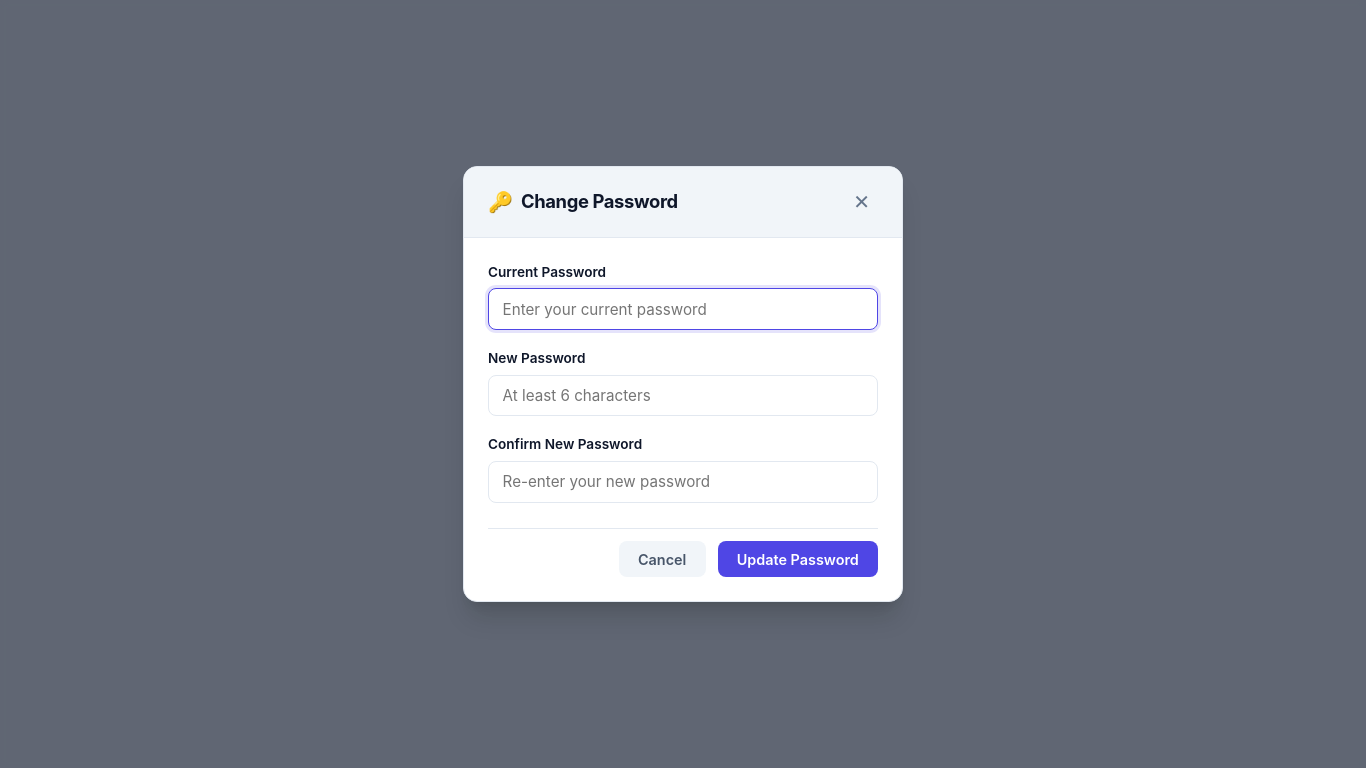
ChangePasswordModal Component › shows validation error when new password is too short
Type "oldpass123" into the password field labelled "Current Password".
click(683, 309); type("oldpass123")  # box [488,288,878,330]
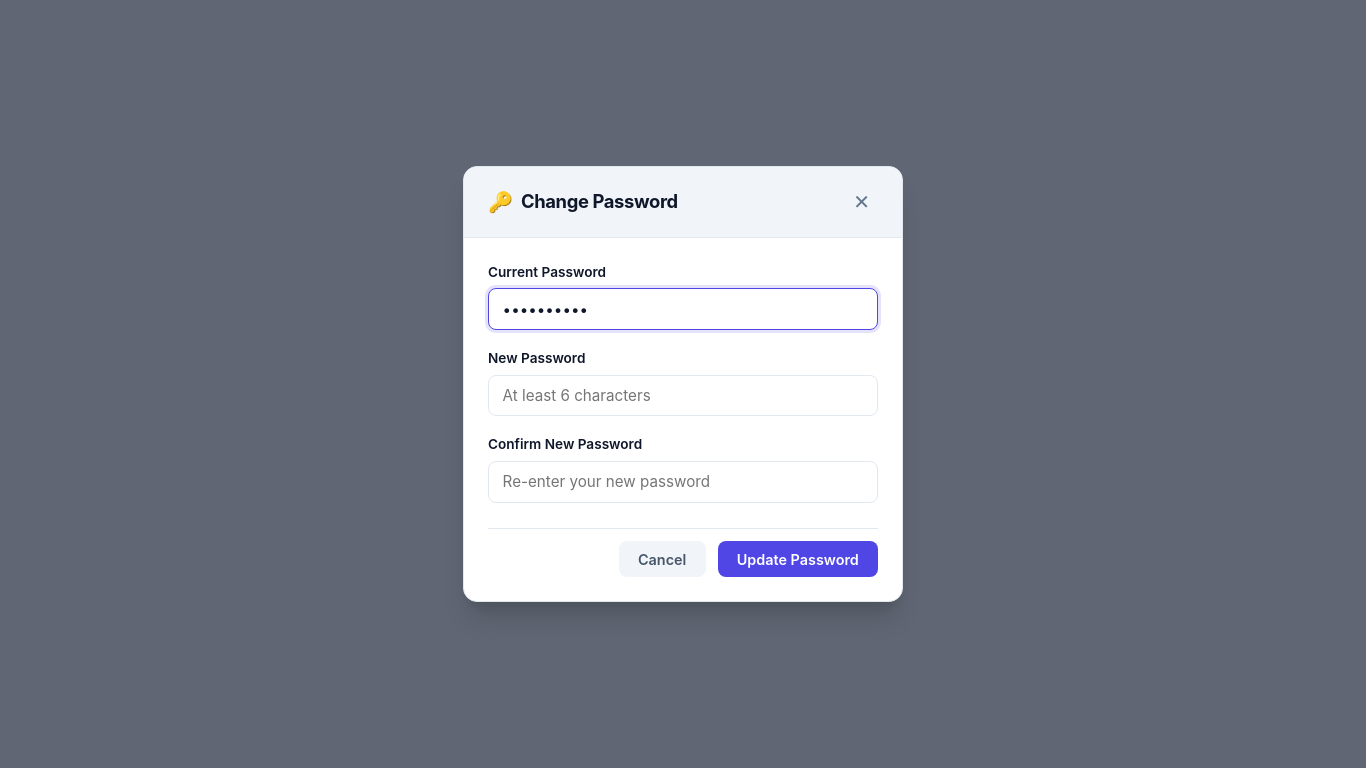
Type "123" into the password field labelled "New Password".
click(683, 396); type("123")  # box [488,375,878,416]
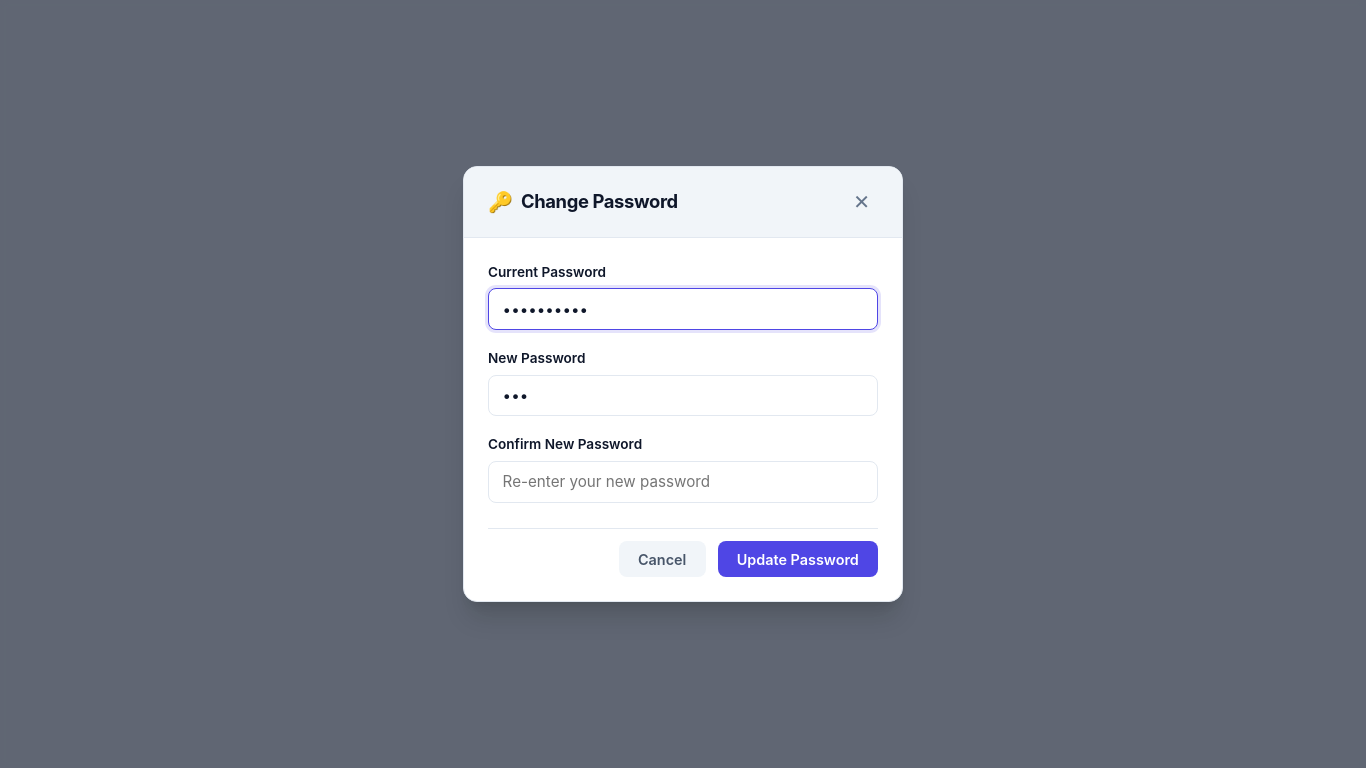
Type "123" into the password field labelled "Confirm New Password".
click(683, 482); type("123")  # box [488,461,878,503]
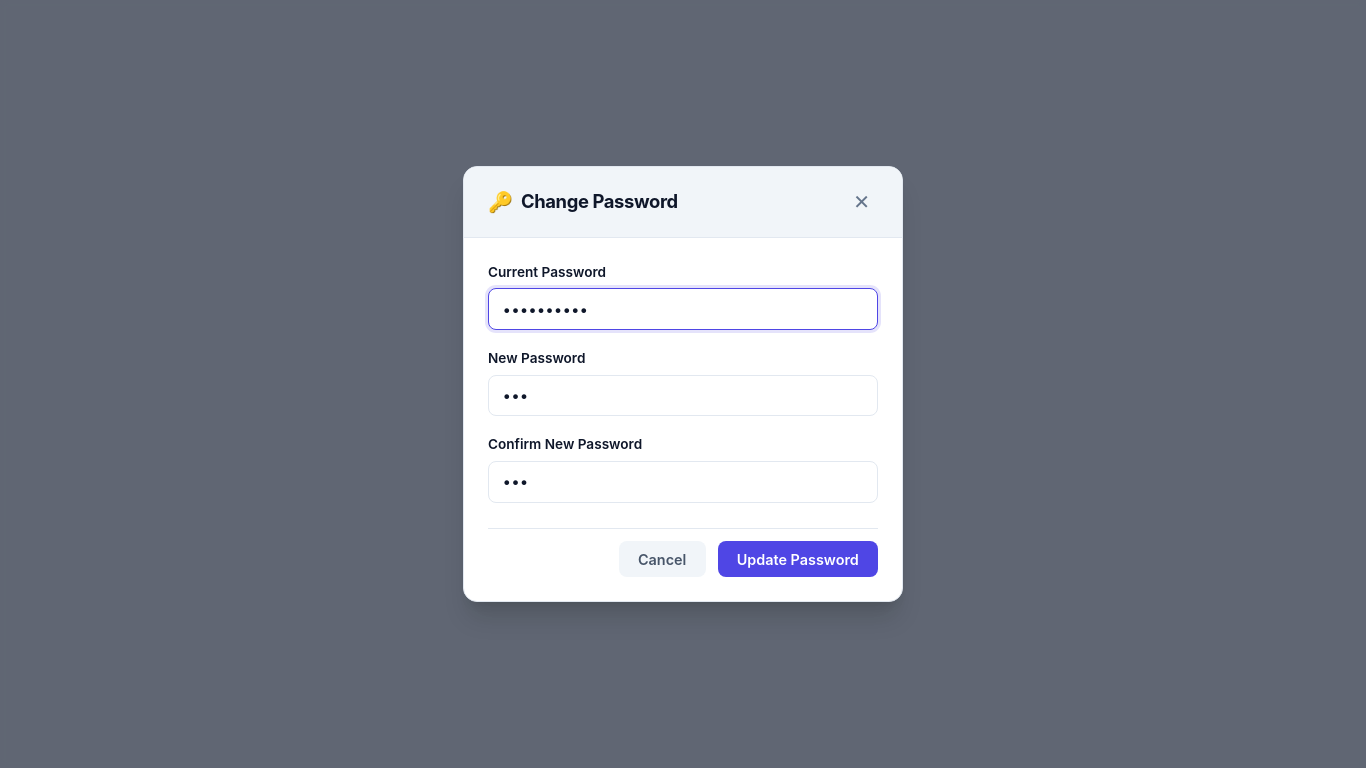
Click the button "Update Password".
click(798, 559)  # box [718,541,878,577]
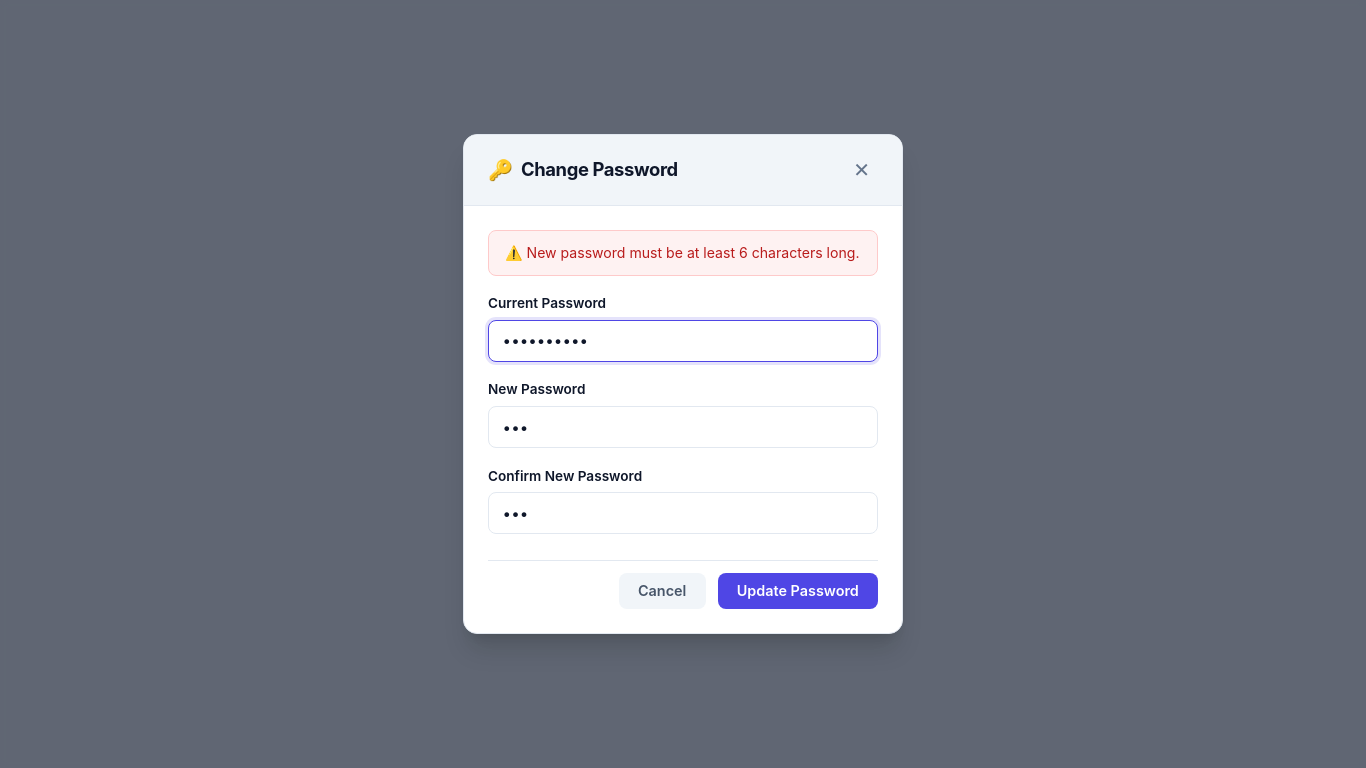
Check: the text "⚠️ New password must be at least 6 characters long." is shown, box [488,230,878,276]
